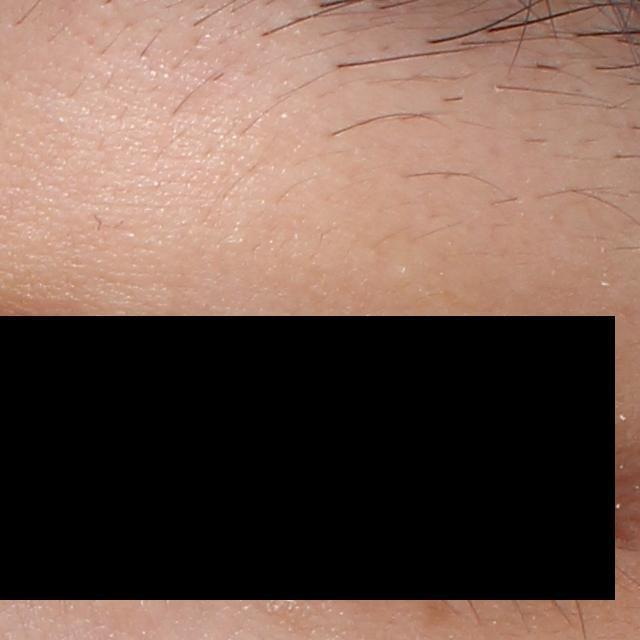melasma: (418, 591, 464, 627)
